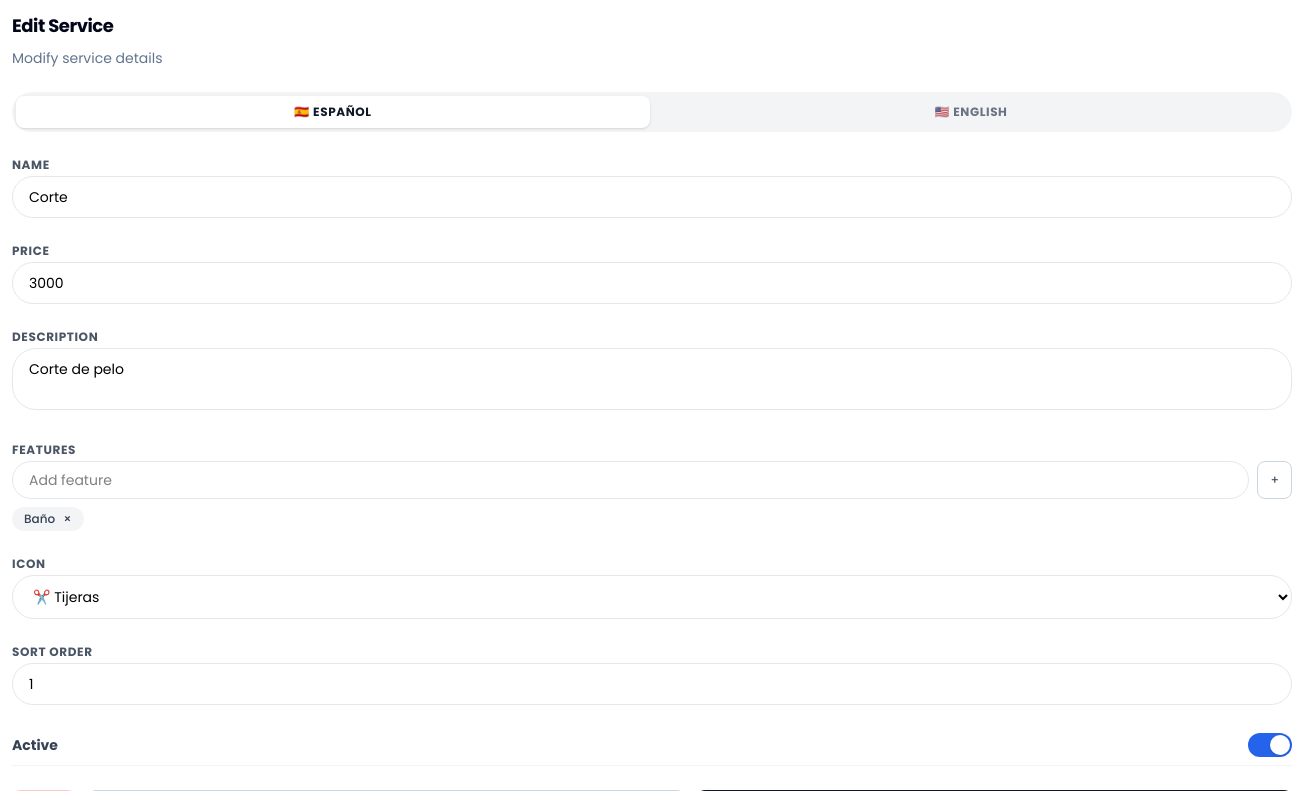
Scenario: ServiceFormSidebar › switches languages
The width and height of the screenshot is (1304, 791).
Click the button "🇺🇸 English" at (971, 112), box [654,96,1288,128]
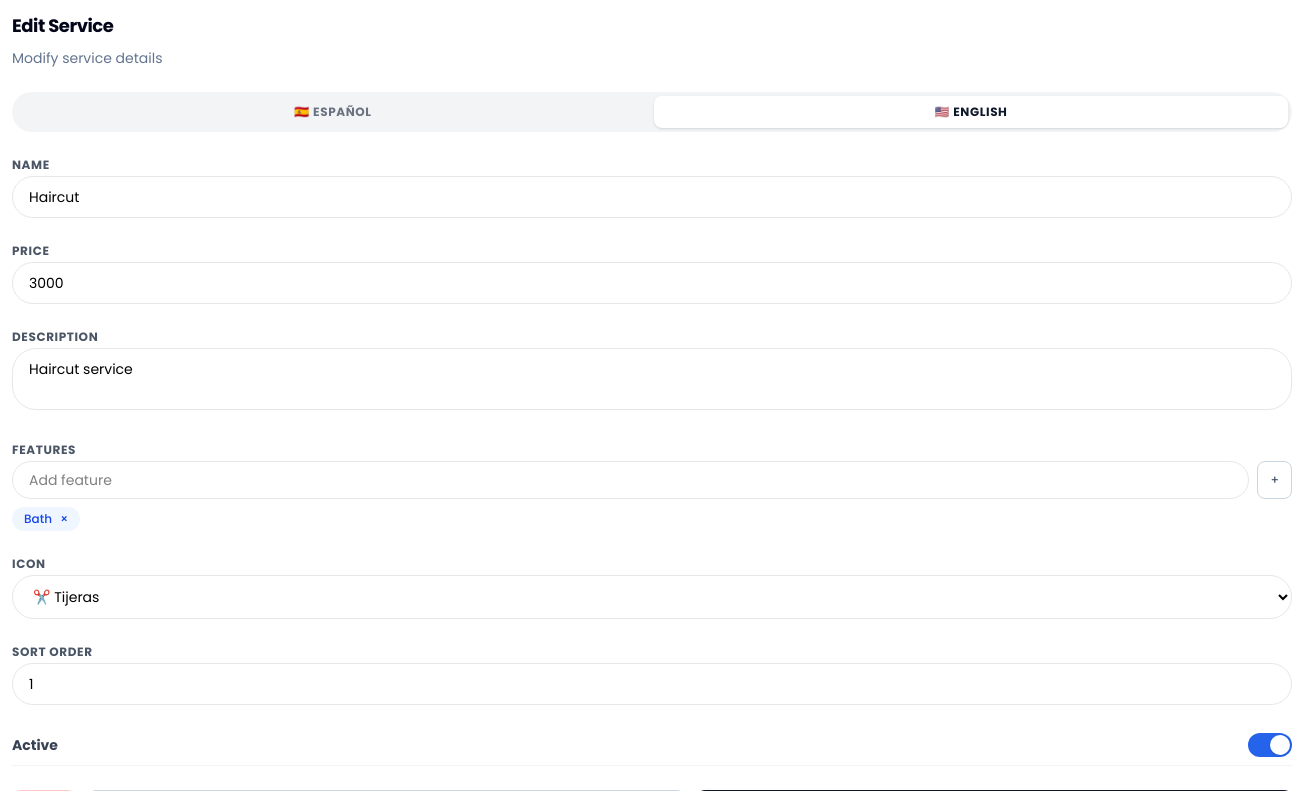
Expected: the field with placeholder "Bath & Dry" is shown, [12,176,1292,218]
